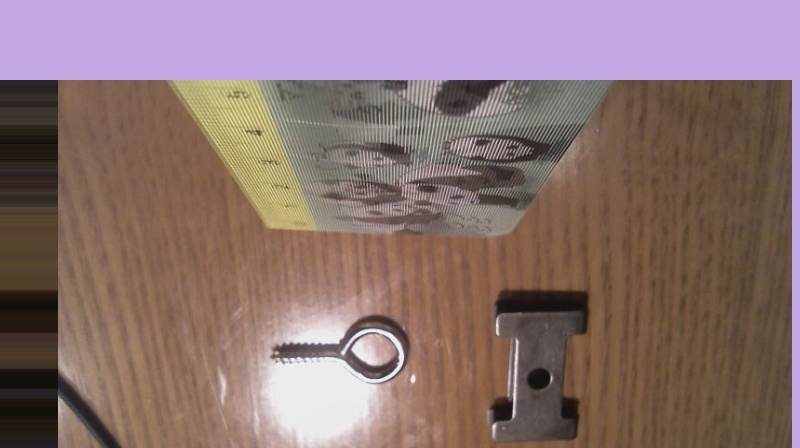O001: (265, 316, 412, 385)
O002: (486, 287, 592, 445)
